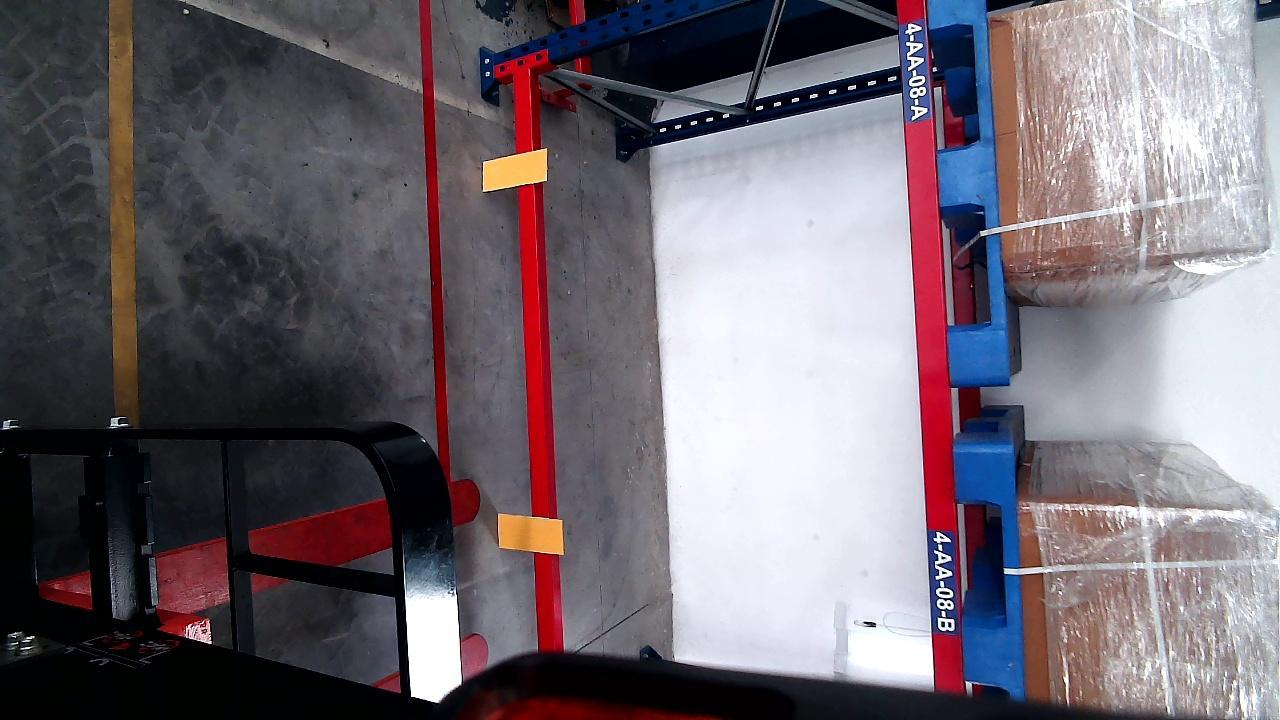red_line: (419, 0, 454, 472)
